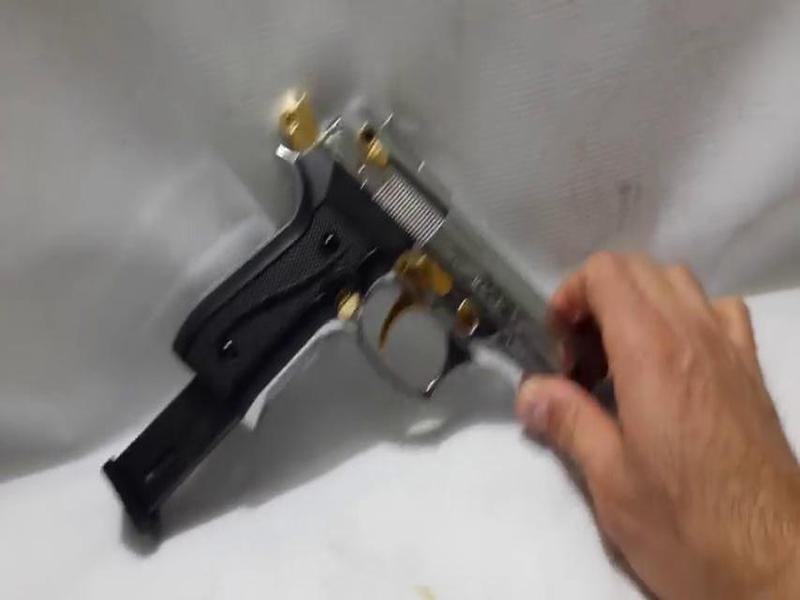Pistola: (171, 87, 635, 420)
